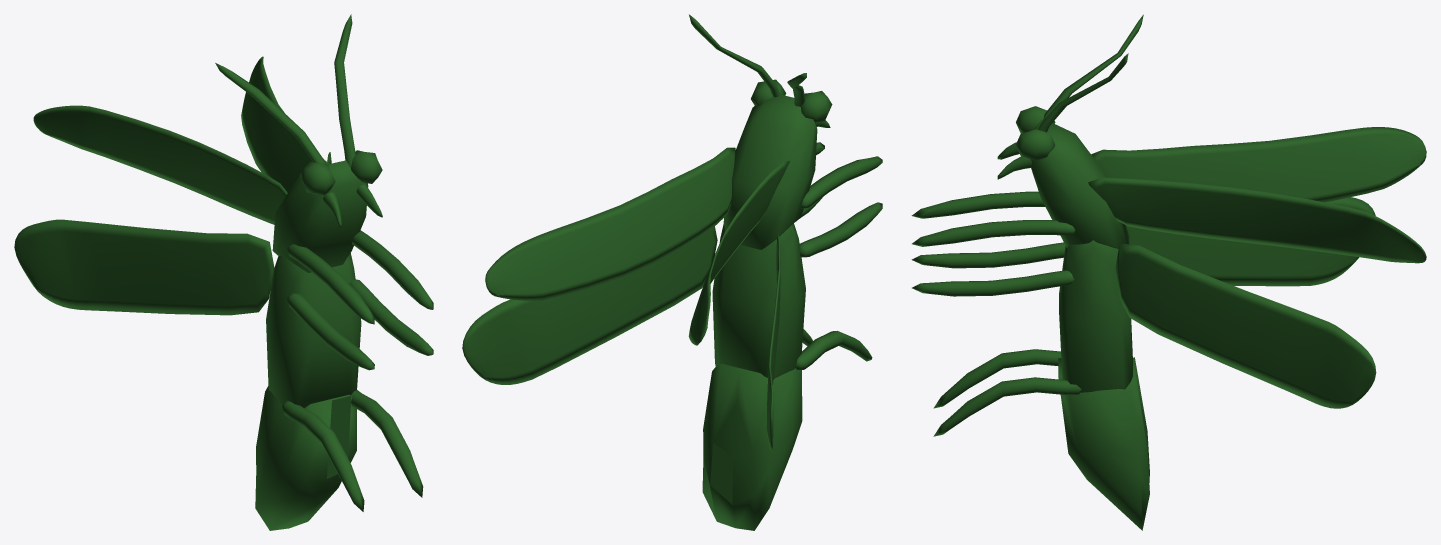
File: Firefly_Model_HG.fbx
The picture shows the model from 3 angles, left to right: view 1: azimuth 30°, elevation 25°; view 2: azimuth 150°, elevation 25°; view 3: azimuth 270°, elevation 25°; orthographic projection. The views are drawn at different scales.
Visible parts, largest first — view 1: Firefly_HG; view 2: Firefly_HG; view 3: Firefly_HG.
Part boxes in pixels (left/top/right/bottom): Firefly_HG: left=14, top=14, right=433, bottom=530; Firefly_HG: left=462, top=14, right=882, bottom=530; Firefly_HG: left=911, top=14, right=1426, bottom=530.
Size of the model in its own units: 0.2113 by 0.3237 by 0.3041.
